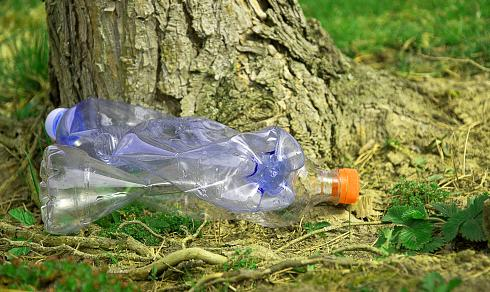Plastic: (39, 90, 363, 244)
